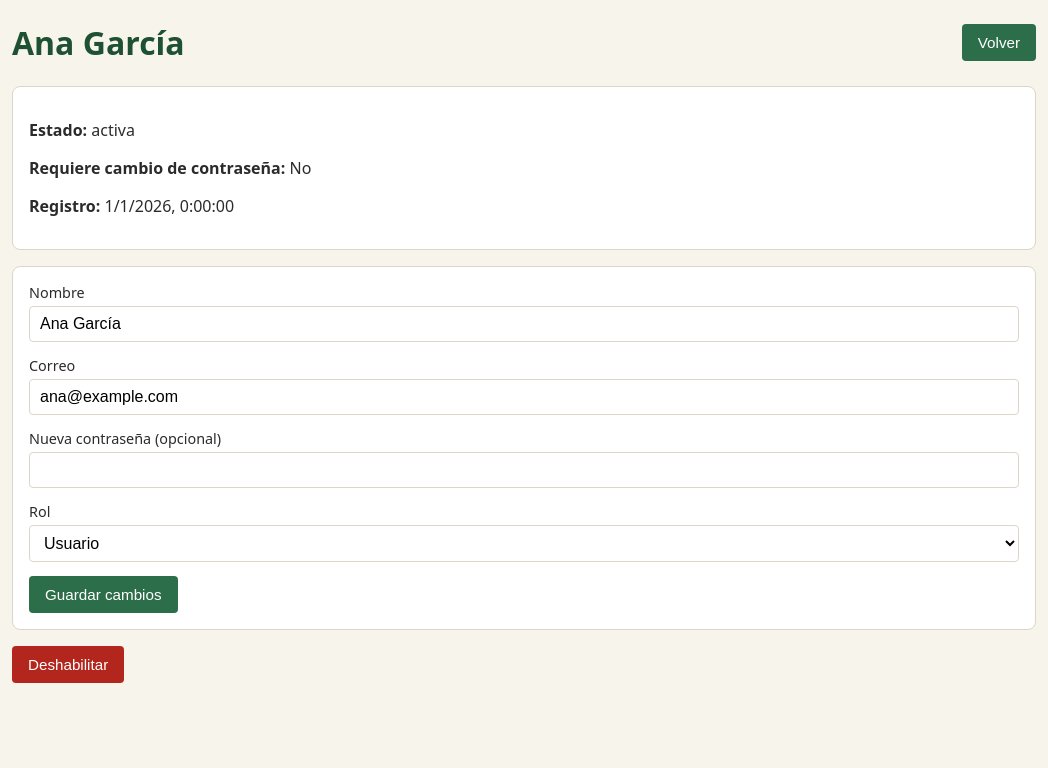
Test: Estado de usuario (US4) › muestra el error de conflicto del backend
Click the button "Deshabilitar" at [68, 664], box left=12, top=646, right=124, bottom=683
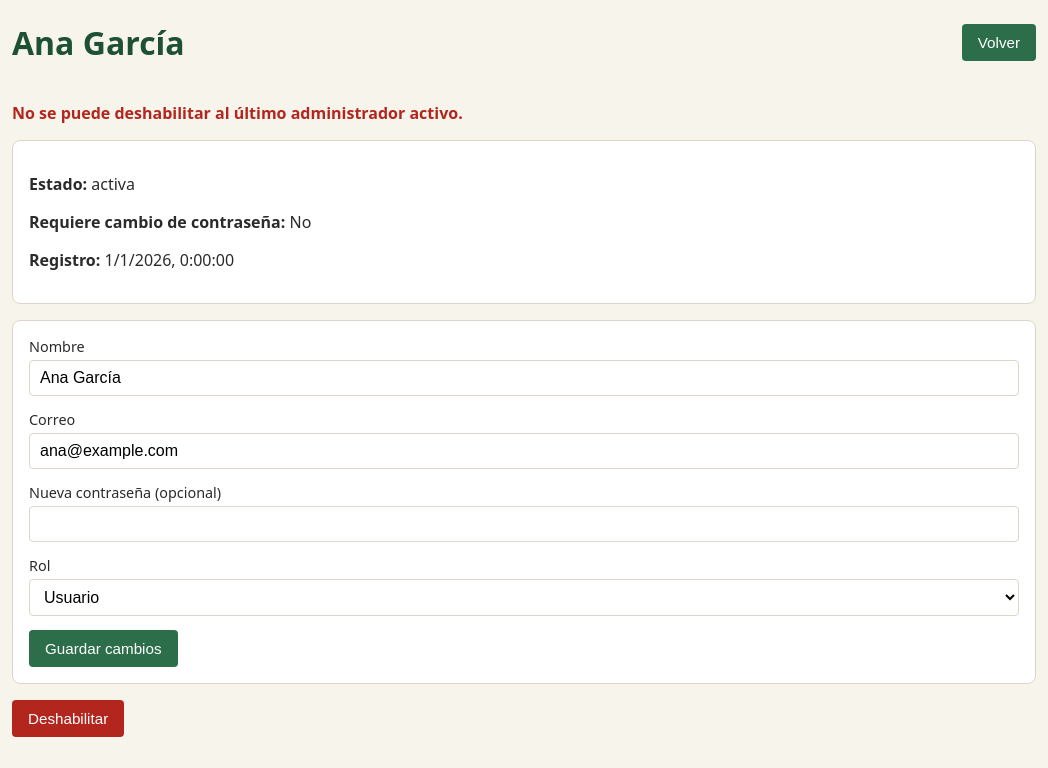
Check: the text "No se puede deshabilitar al último administrador activo." is shown, box left=12, top=102, right=463, bottom=124
